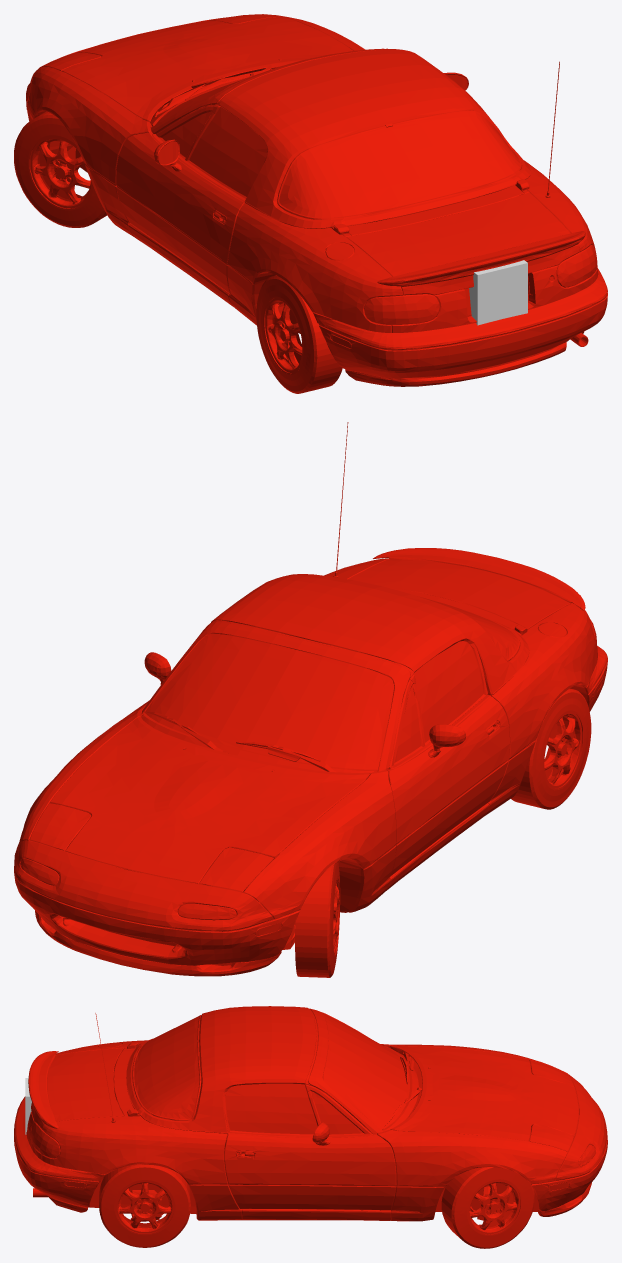
The model's file is miatared.glb.
3 renders of one model, top to bottom at view 1: azimuth 30°, elevation 25°; view 2: azimuth 150°, elevation 25°; view 3: azimuth 270°, elevation 25°, orthographic. The views are drawn at different scales.
Visible parts, largest first — view 1: 1to1 Scaled miata, Cube; view 2: 1to1 Scaled miata; view 3: 1to1 Scaled miata.
Boxes of the visible parts, <box> form: 1to1 Scaled miata: <box>14,14,607,393</box>; Cube: <box>469,260,527,325</box>; 1to1 Scaled miata: <box>14,422,607,977</box>; 1to1 Scaled miata: <box>14,1006,607,1248</box>.
Size of the model in its own units: 76.02 by 66.43 by 161.
